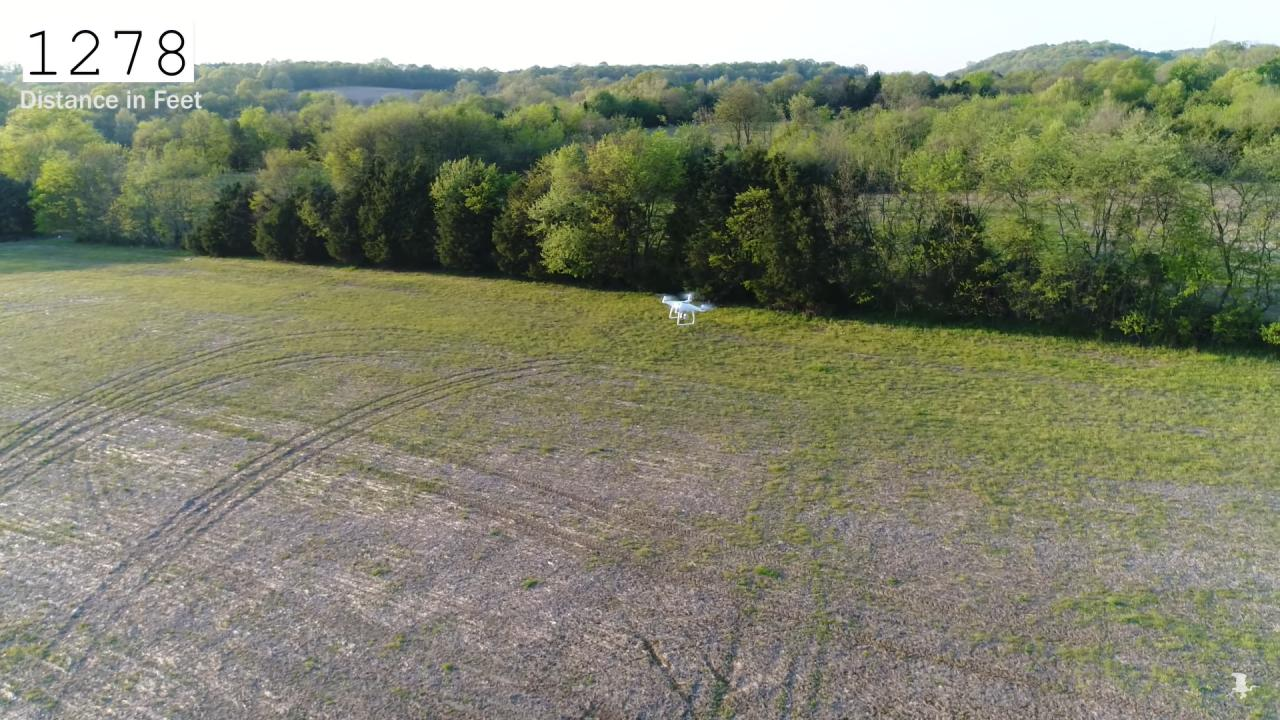Drone: (650, 284, 722, 332)
